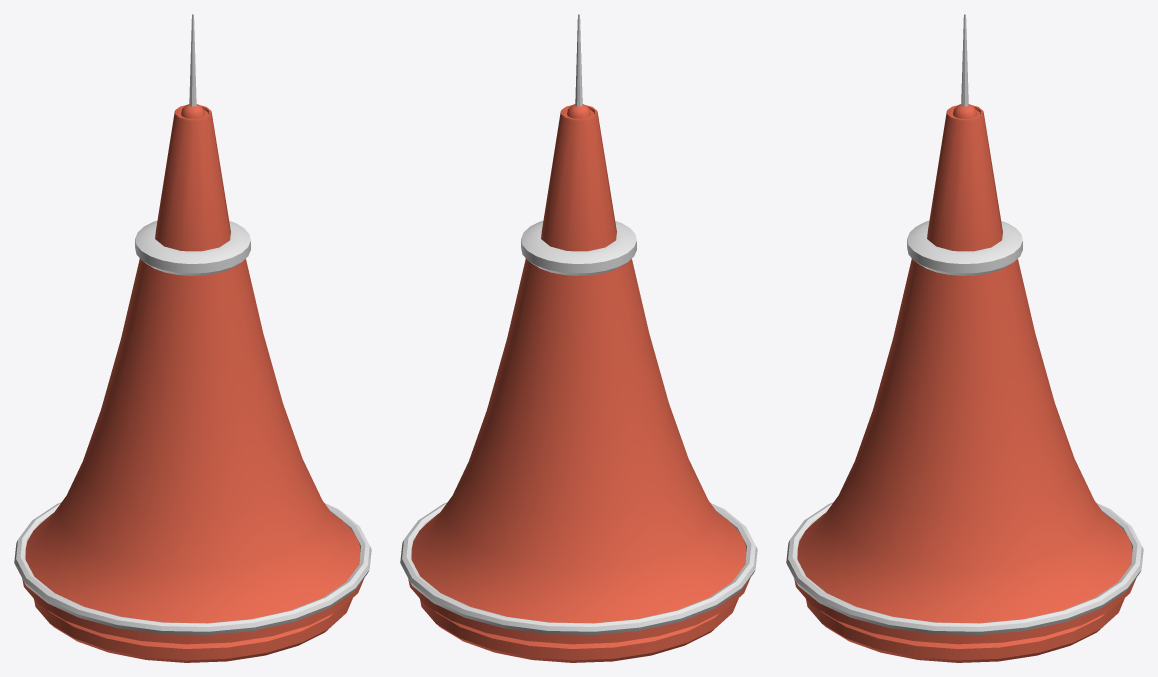
File: SP_House08_Roof01.fbx
The picture shows the model from 3 angles, left to right: view 1: azimuth 30°, elevation 25°; view 2: azimuth 150°, elevation 25°; view 3: azimuth 270°, elevation 25°; orthographic projection.
Parts seen in each view (by area): view 1: SP_House08_Roof01; view 2: SP_House08_Roof01; view 3: SP_House08_Roof01.
Part boxes in pixels (x1,y1,x2,y2): SP_House08_Roof01: (14,14,371,662); SP_House08_Roof01: (400,14,757,662); SP_House08_Roof01: (786,14,1143,662).
Bounding box in the file's own units: 4.56 × 8.19 × 4.56.
